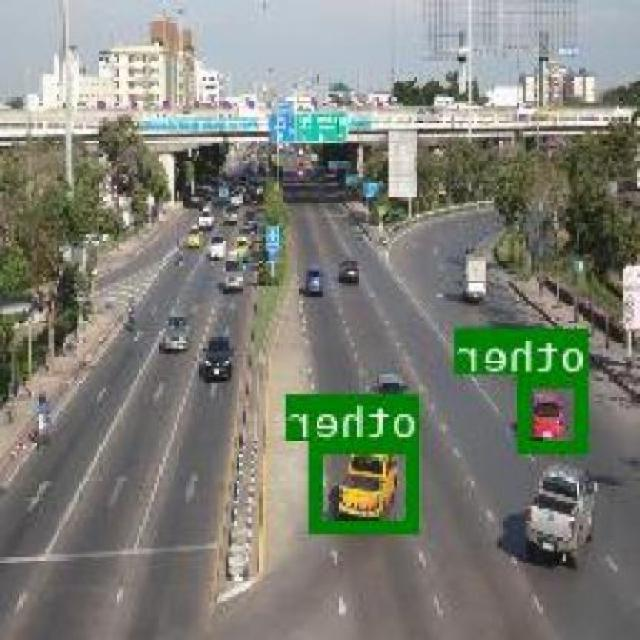other: (314, 438, 422, 528), (522, 372, 590, 450)
